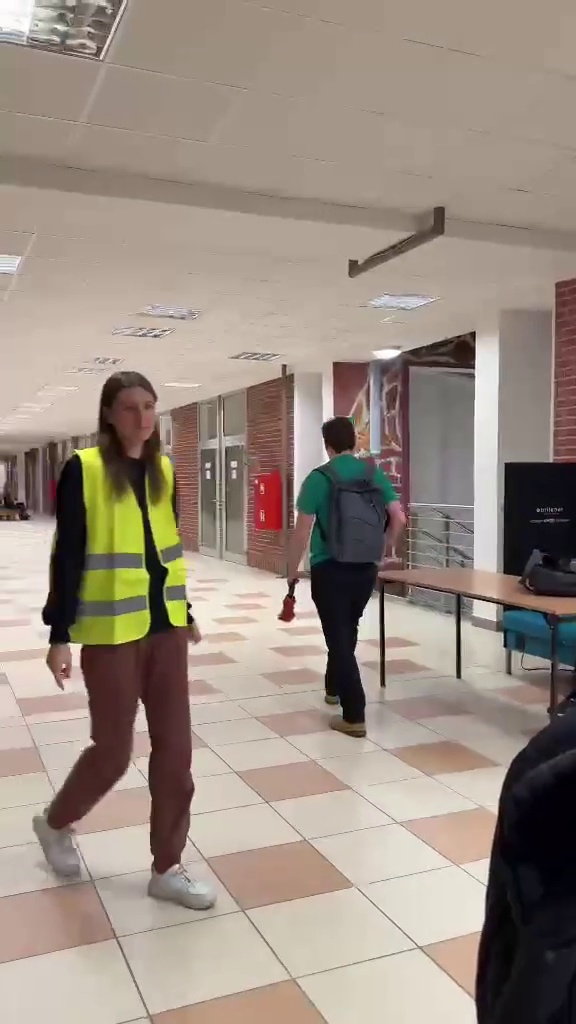no vest: (293, 416, 417, 744)
vest: (45, 372, 230, 907)
